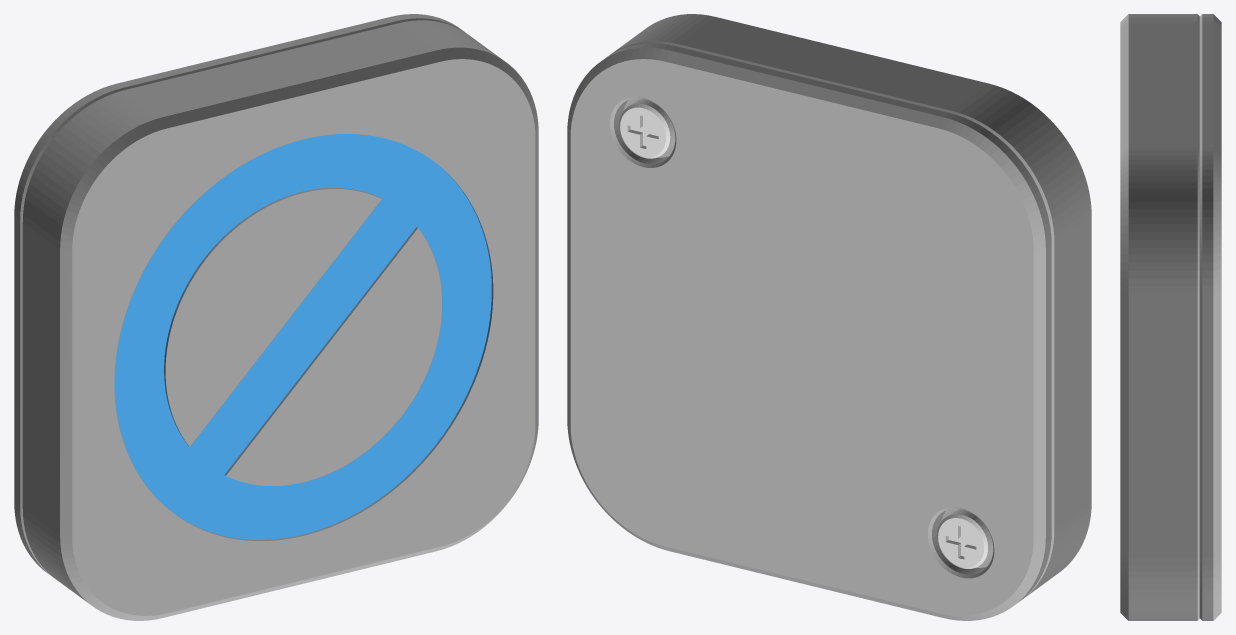
File: zentap-optimized.glb
The picture shows the model from 3 angles, left to right: view 1: azimuth 30°, elevation 25°; view 2: azimuth 150°, elevation 25°; view 3: azimuth 270°, elevation 25°; orthographic projection. The views are drawn at different scales.
Parts seen in each view (by area): view 1: Node1; view 2: Node1; view 3: Node1.
Part boxes in pixels (x1=…): Node1: x1=14, y1=14, x2=538, y2=620; Node1: x1=567, y1=14, x2=1091, y2=620; Node1: x1=1120, y1=14, x2=1221, y2=620.
Size of the model in its own units: 46.72 by 46.72 by 9.25.
